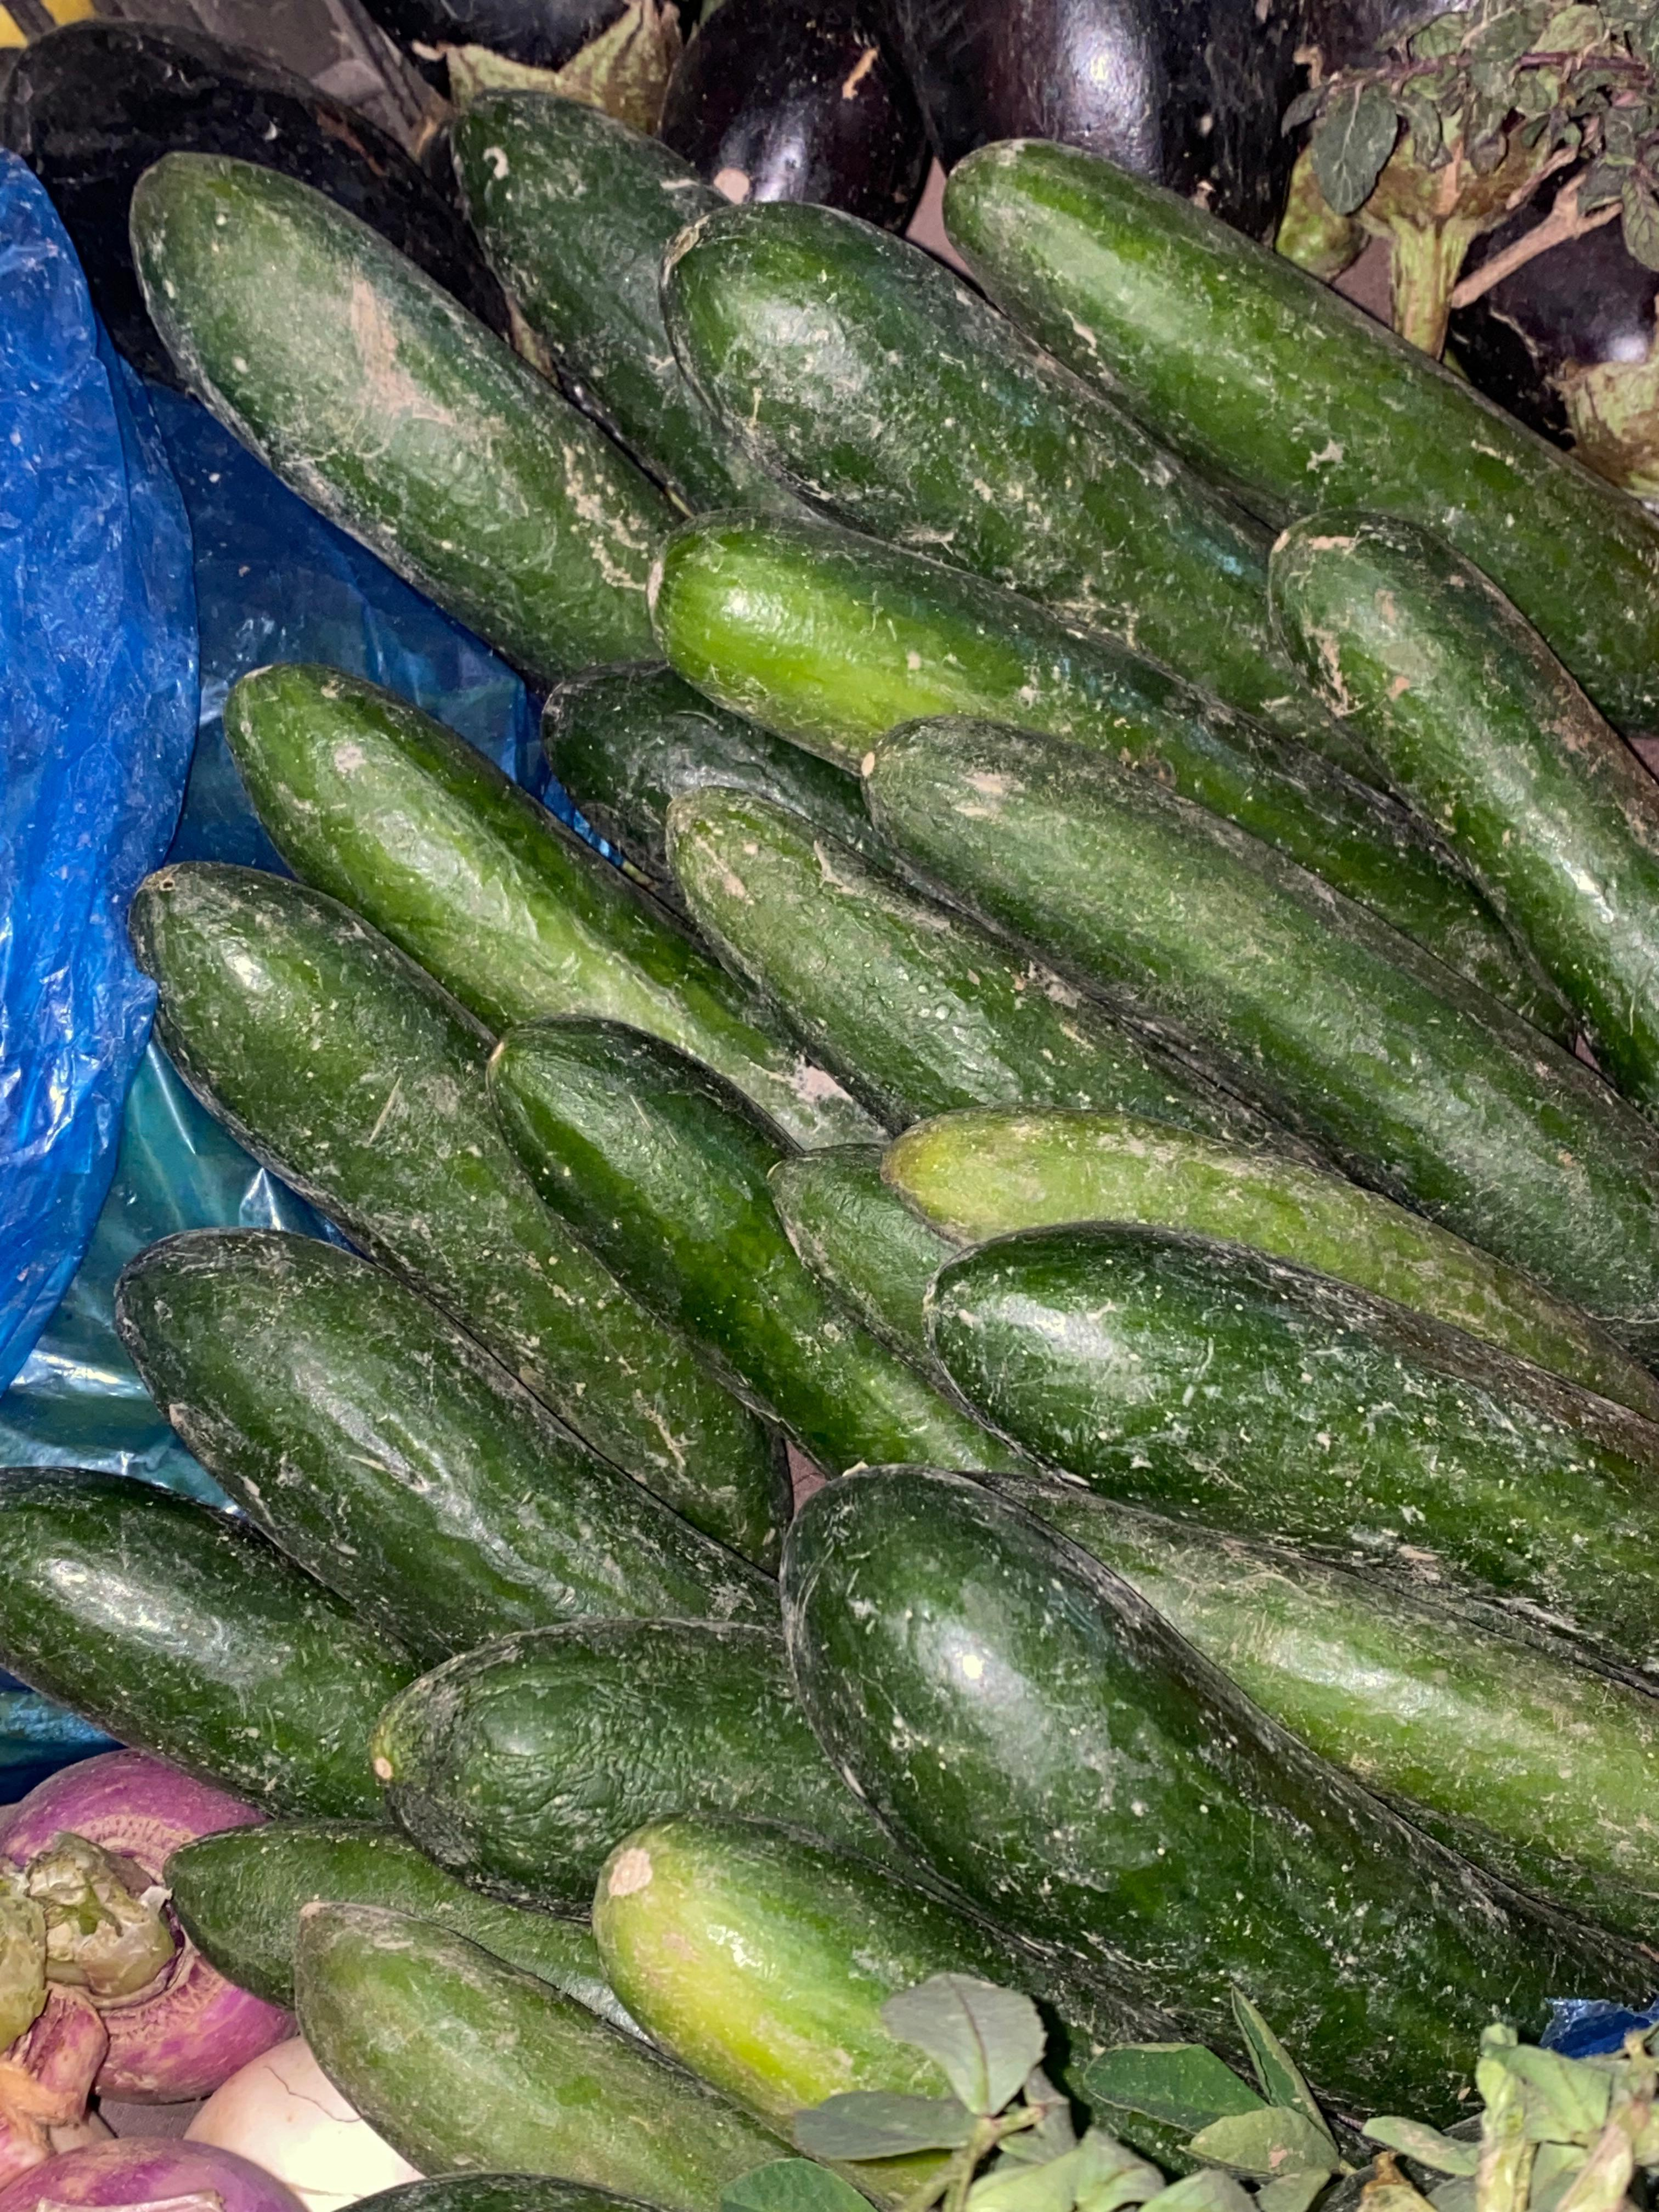organic: (784, 1439, 1553, 2128), (1002, 138, 1652, 738), (875, 716, 1622, 1233), (134, 954, 798, 1519), (929, 1221, 1631, 1707), (132, 153, 711, 686), (220, 685, 823, 1162), (664, 791, 1208, 1174), (284, 1892, 828, 2203), (2, 1468, 430, 1827), (376, 1615, 875, 1918), (157, 1818, 662, 2057)
